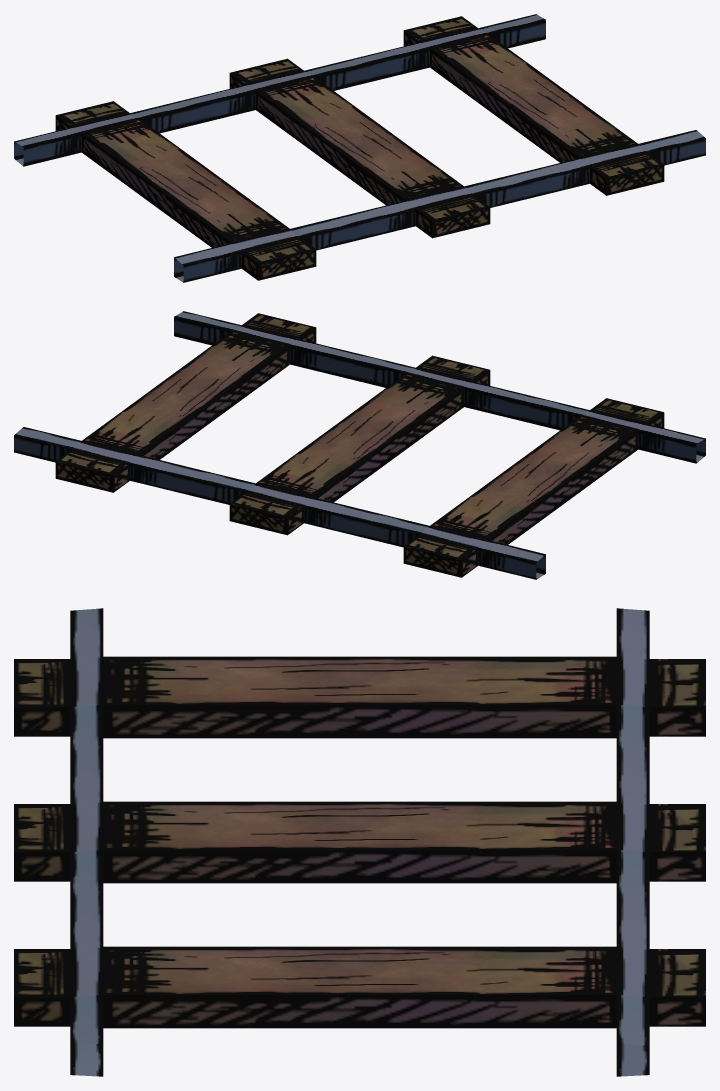
File: 3_track.fbx
The picture shows the model from 3 angles, top to bottom: view 1: azimuth 30°, elevation 25°; view 2: azimuth 150°, elevation 25°; view 3: azimuth 270°, elevation 25°; orthographic projection. The views are drawn at different scales.
Visible parts, largest first — view 1: 3_track; view 2: 3_track; view 3: 3_track.
Part boxes in pixels (x1,y1,x2,y2): 3_track: (14,14,705,282); 3_track: (14,311,705,579); 3_track: (14,608,705,1076).
Size of the model in its own units: 765 by 27.44 by 514.
